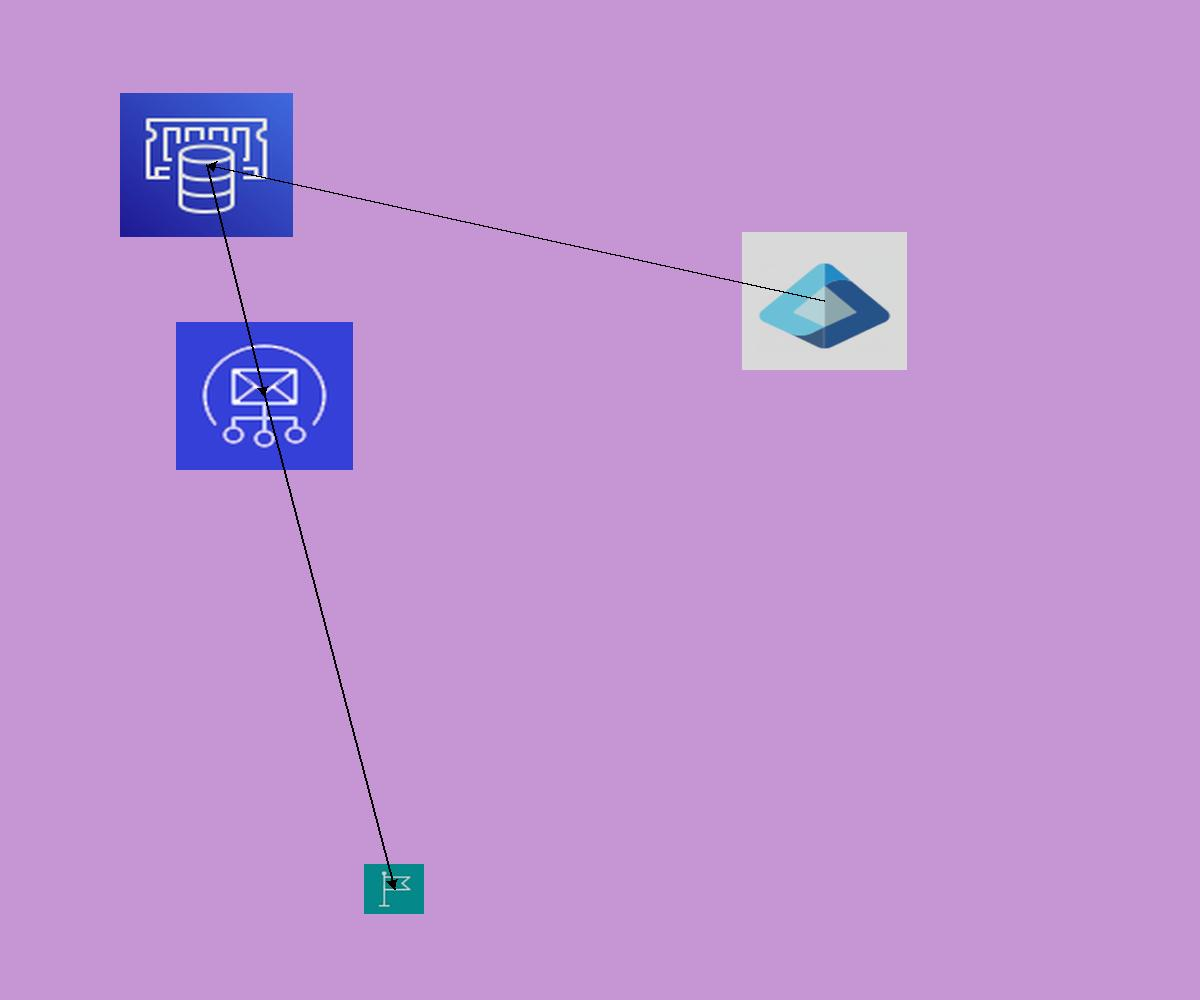AWS-ElastiCache: (120, 93, 293, 237)
AWS-Region: (364, 864, 424, 914)
AWS-Simple-Email-Service: (176, 322, 353, 470)
Azure_microsoft_entra: (742, 232, 907, 370)
